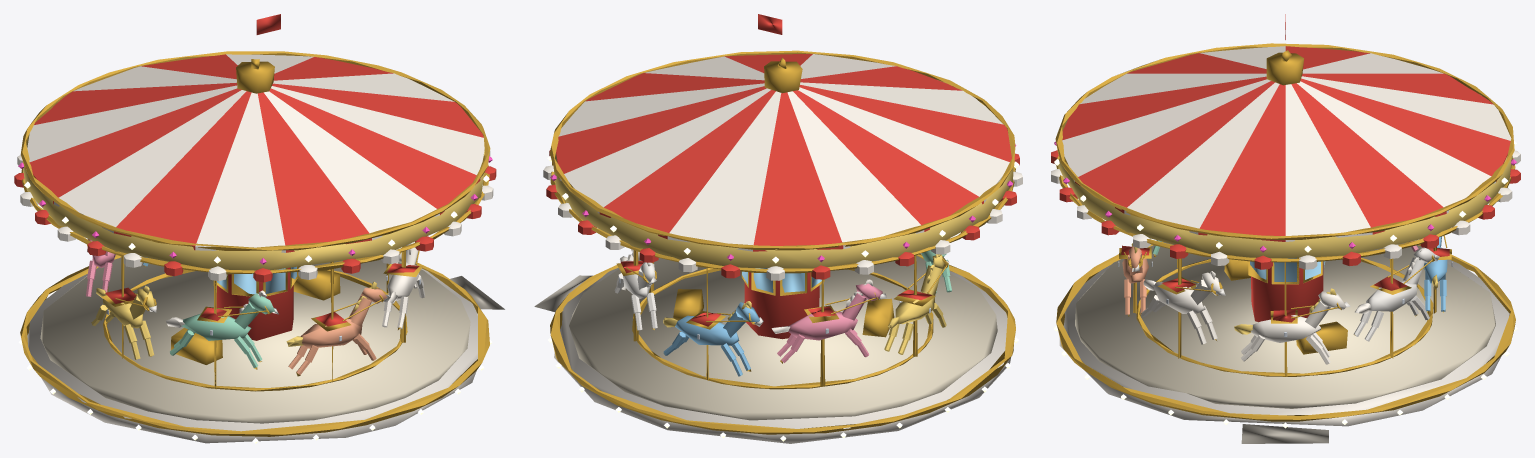
The model's file is carousel.glb.
3 views of the same model, side by side, from view 1: azimuth 30°, elevation 25°; view 2: azimuth 150°, elevation 25°; view 3: azimuth 270°, elevation 25° (orthographic). The views are drawn at different scales.
Visible parts, largest first — view 1: carousel_top.002, carousel.002; view 2: carousel_top.002, carousel.002; view 3: carousel_top.002, carousel.002.
Part boxes in pixels (x1,y1,x2,y2): carousel_top.002: (14, 14, 496, 423); carousel.002: (18, 254, 504, 443); carousel_top.002: (543, 14, 1022, 420); carousel.002: (534, 254, 1018, 443); carousel_top.002: (1051, 14, 1520, 408); carousel.002: (1053, 241, 1517, 443).
Size of the model in its own units: 8.88 by 6.39 by 8.45.
Materials: 1 (1 with a texture image).
